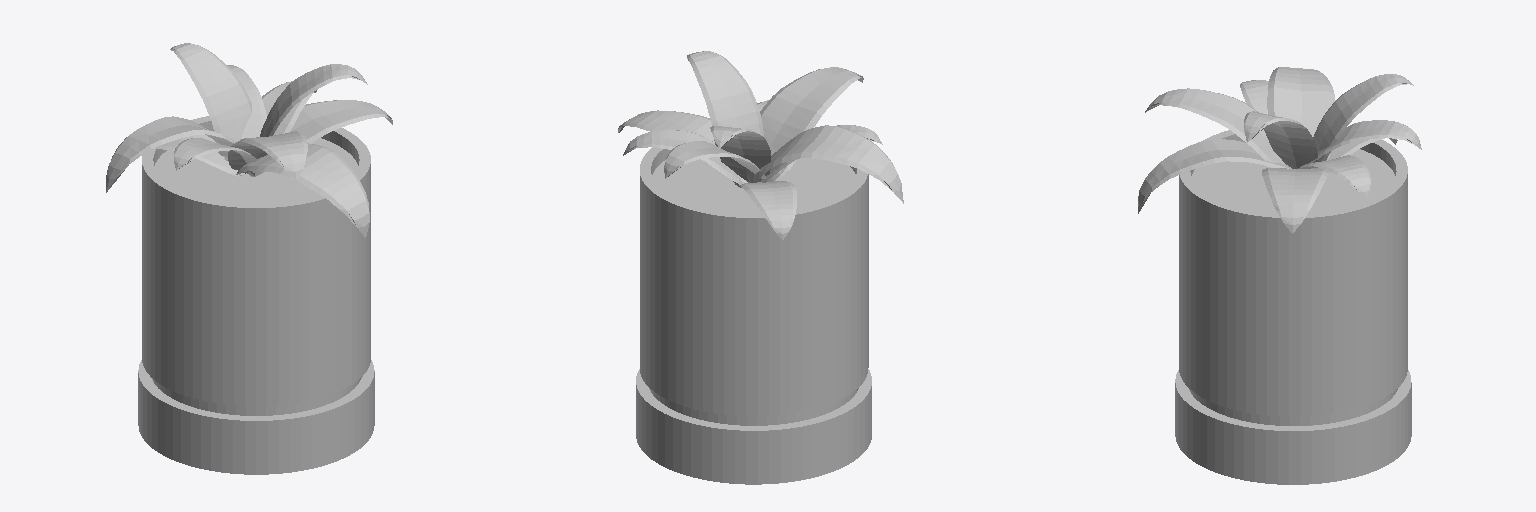
File: Pot.obj
3 views of the same model, side by side, from view 1: azimuth 30°, elevation 25°; view 2: azimuth 150°, elevation 25°; view 3: azimuth 270°, elevation 25° (orthographic).
Visible parts, largest first — view 1: Object024; view 2: Object024; view 3: Object024.
Boxes of the visible parts, x1=… form: Object024: x1=106, y1=43, x2=392, y2=474; Object024: x1=618, y1=51, x2=903, y2=484; Object024: x1=1138, y1=67, x2=1421, y2=484.
Size of the model in its own units: 287 by 336 by 247.